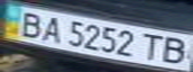2: (78, 21, 103, 53), (115, 27, 139, 60)
5: (60, 18, 87, 48), (100, 25, 121, 56)
A: (36, 14, 66, 44)
B: (157, 34, 193, 65), (12, 9, 48, 38)
T: (139, 30, 169, 63)
